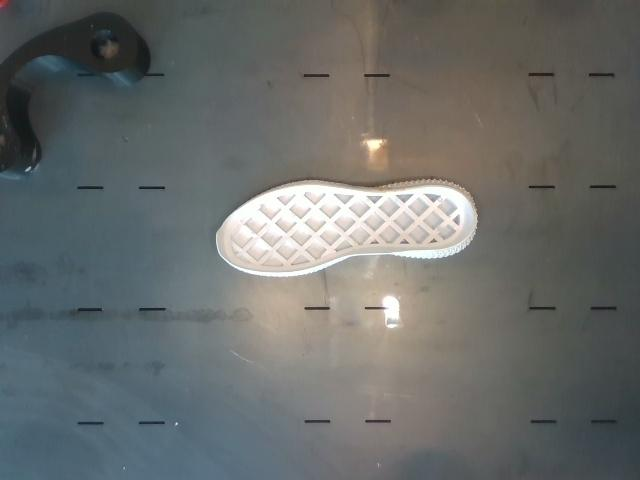shoes: (217, 185, 475, 272)
